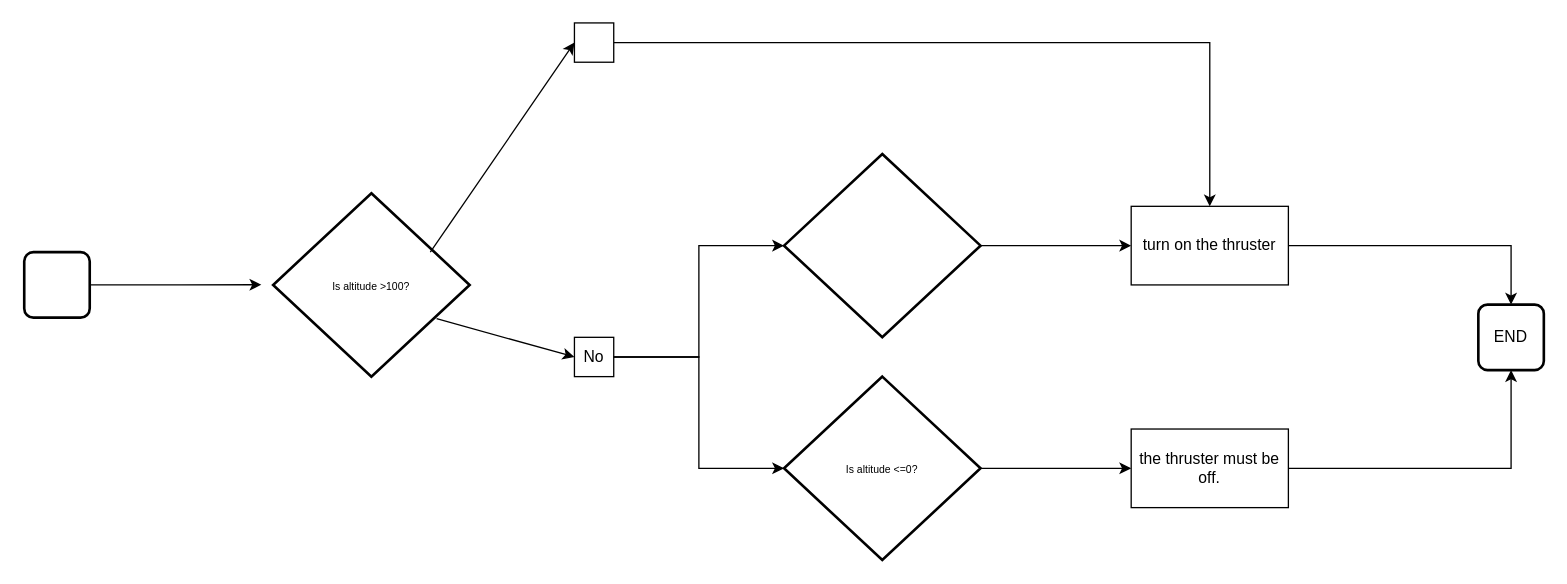
Image size: 1567x584. Some labels were removed from this diagram. The centre of each missing label's shape, as x and y in pixels:
Is altitude <=100?: point 881,245
START: point 56,284
Yes: point 593,42
